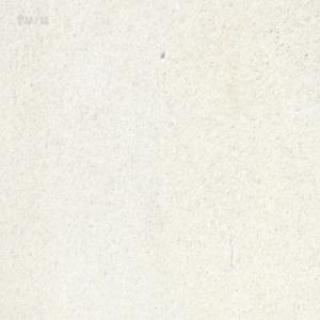Wrenchtrack_idkeyframe: (204, 0, 212, 4)
